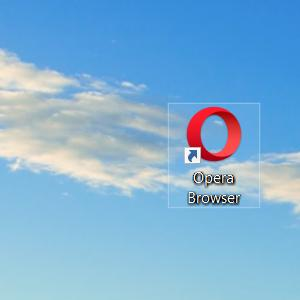opera: (184, 106, 242, 164)
